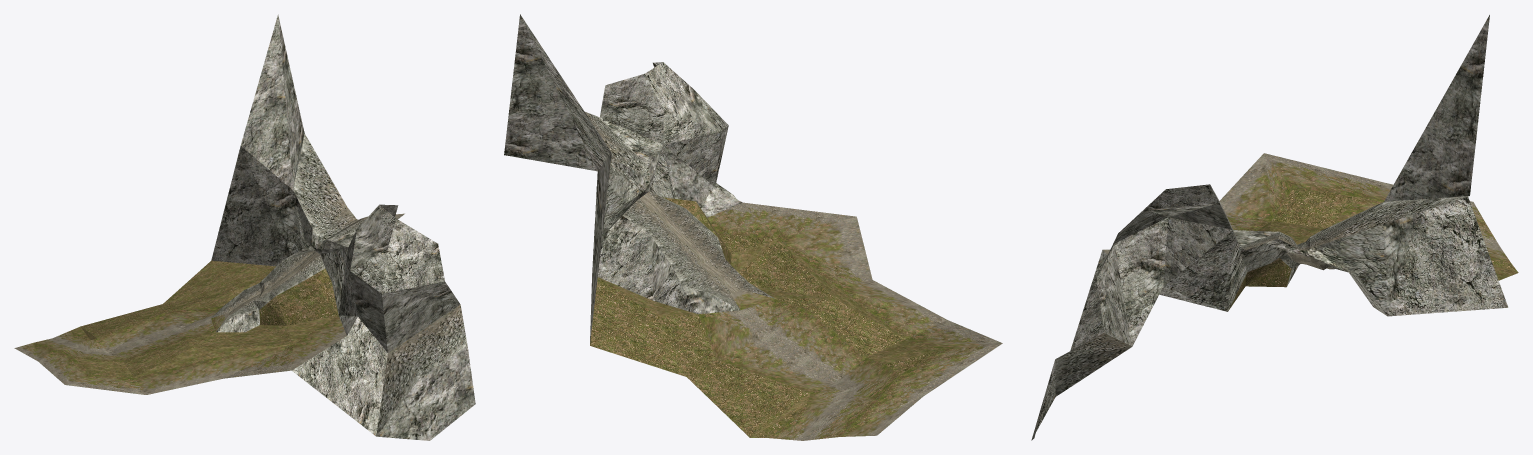
Rendered from cs_landbit_39.obj.
3 renders of one model, left to right at view 1: azimuth 30°, elevation 25°; view 2: azimuth 150°, elevation 25°; view 3: azimuth 270°, elevation 25°, orthographic. The views are drawn at different scales.
Parts seen in each view (by area): view 1: cs_landbit_39; view 2: cs_landbit_39; view 3: cs_landbit_39.
Boxes of the visible parts, bbox=[...] form: cs_landbit_39: bbox=[14, 14, 475, 440]; cs_landbit_39: bbox=[504, 14, 1002, 440]; cs_landbit_39: bbox=[1031, 15, 1518, 440].
Size of the model in its own units: 225 by 194 by 198.
